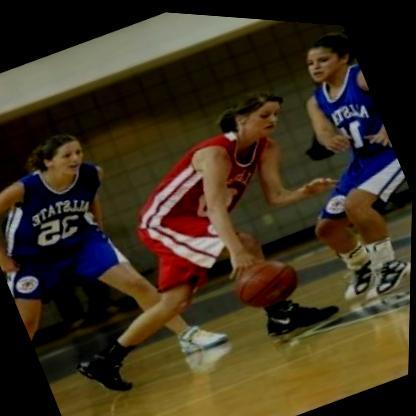basketball: (223, 240, 311, 318)
